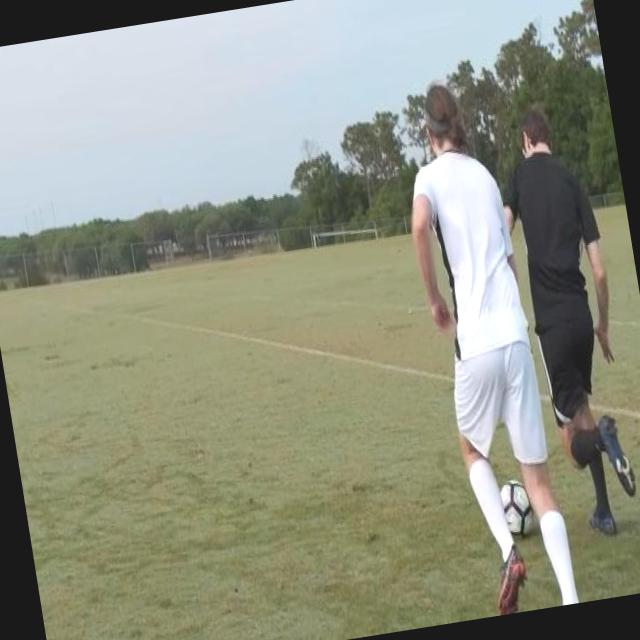Soccer Ball: (490, 474, 539, 544)
